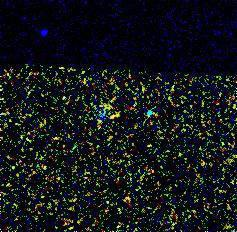star: (102, 103, 132, 133)
